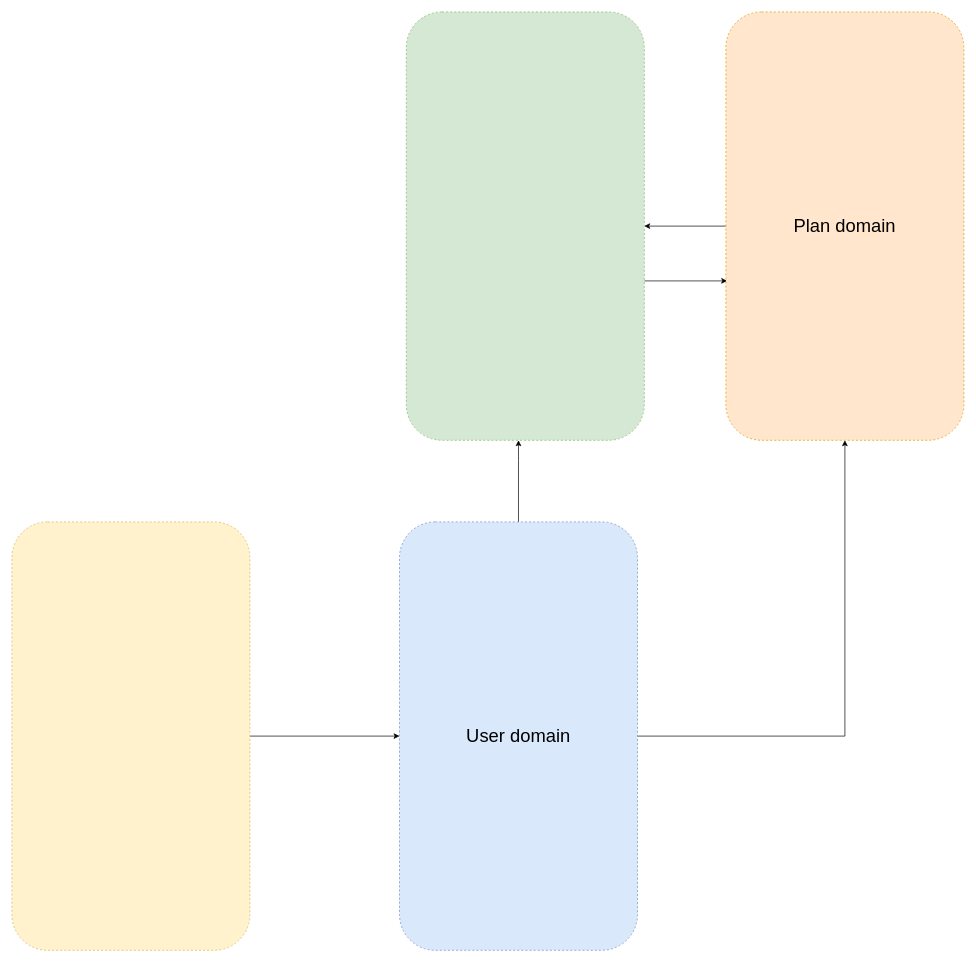
Image size: 976x962. Some labels were removed from this diagram. Each missing label, with the centre of its shape:
"Notification domain" goes at point (130, 735).
"Nutritional domain" goes at point (525, 225).
